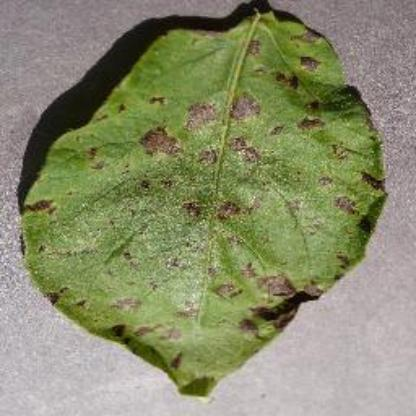Early-Blight: (12, 0, 390, 394)
